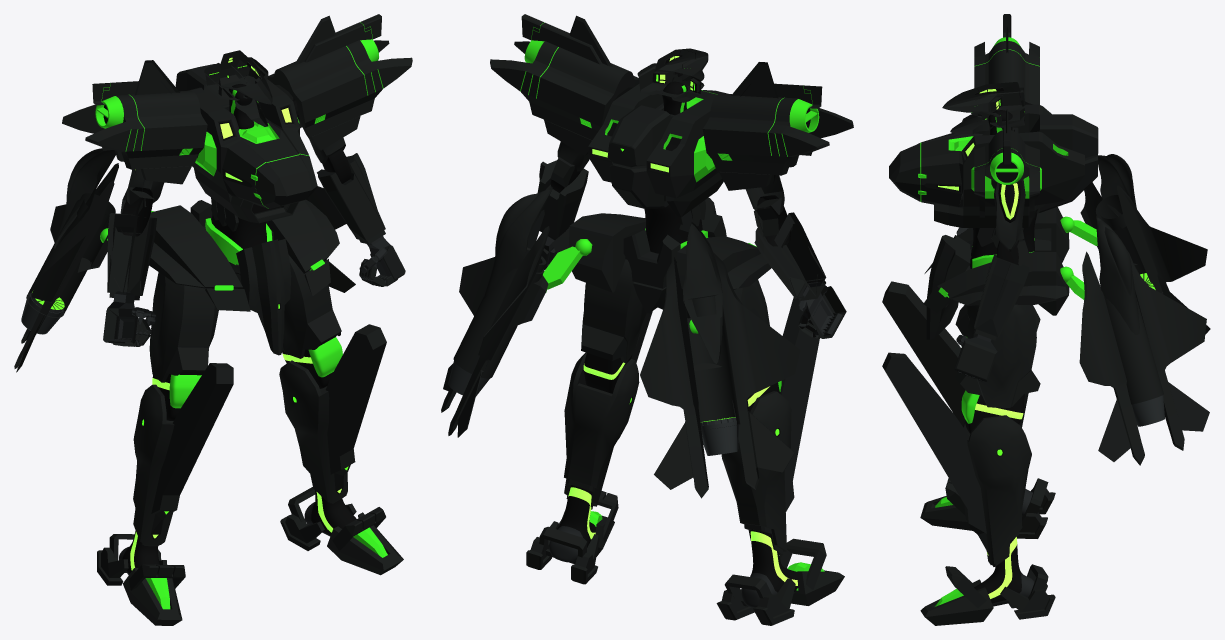
The model's file is mecha.glb.
3 renders of one model, left to right at view 1: azimuth 30°, elevation 25°; view 2: azimuth 150°, elevation 25°; view 3: azimuth 270°, elevation 25°, orthographic. The views are drawn at different scales.
Parts seen in each view (by area): view 1: char; view 2: char; view 3: char.
Boxes of the visible parts, box(x1,y1,x2,y2) form: char: box(14, 14, 412, 625); char: box(441, 14, 853, 625); char: box(882, 14, 1210, 625).
Size of the model in its own units: 1.78 by 2.71 by 1.6.
1 material, 1 textured.
